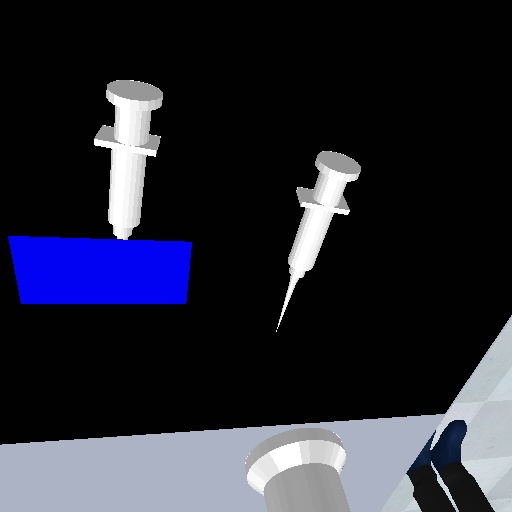jeringuilla: (273, 143, 364, 337), (90, 75, 168, 241)
